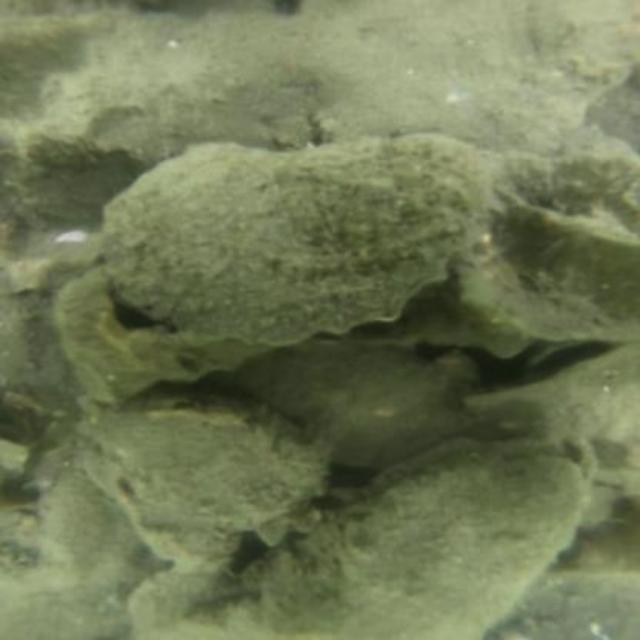Oyster-Closed: (99, 136, 500, 351), (256, 435, 600, 629), (76, 410, 314, 559), (231, 344, 466, 469), (507, 191, 640, 262)
